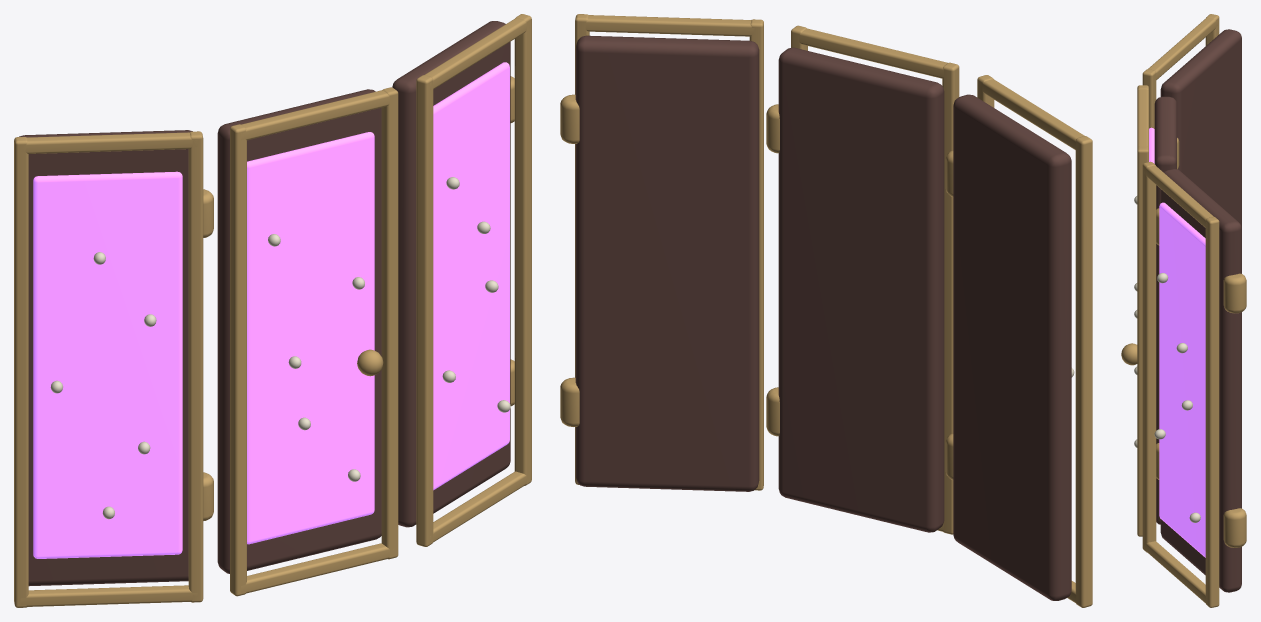
File: relic_door.glb
3 views of the same model, side by side, from view 1: azimuth 30°, elevation 25°; view 2: azimuth 150°, elevation 25°; view 3: azimuth 270°, elevation 25° (orthographic). The views are drawn at different scales.
Parts seen in each view (by area): view 1: relic_door; view 2: relic_door; view 3: relic_door.
Part boxes in pixels (x1=…): relic_door: x1=14, y1=14, x2=531, y2=607; relic_door: x1=560, y1=14, x2=1092, y2=607; relic_door: x1=1121, y1=14, x2=1246, y2=607.
Size of the model in its own units: 0.7635 by 0.66 by 0.1941.
